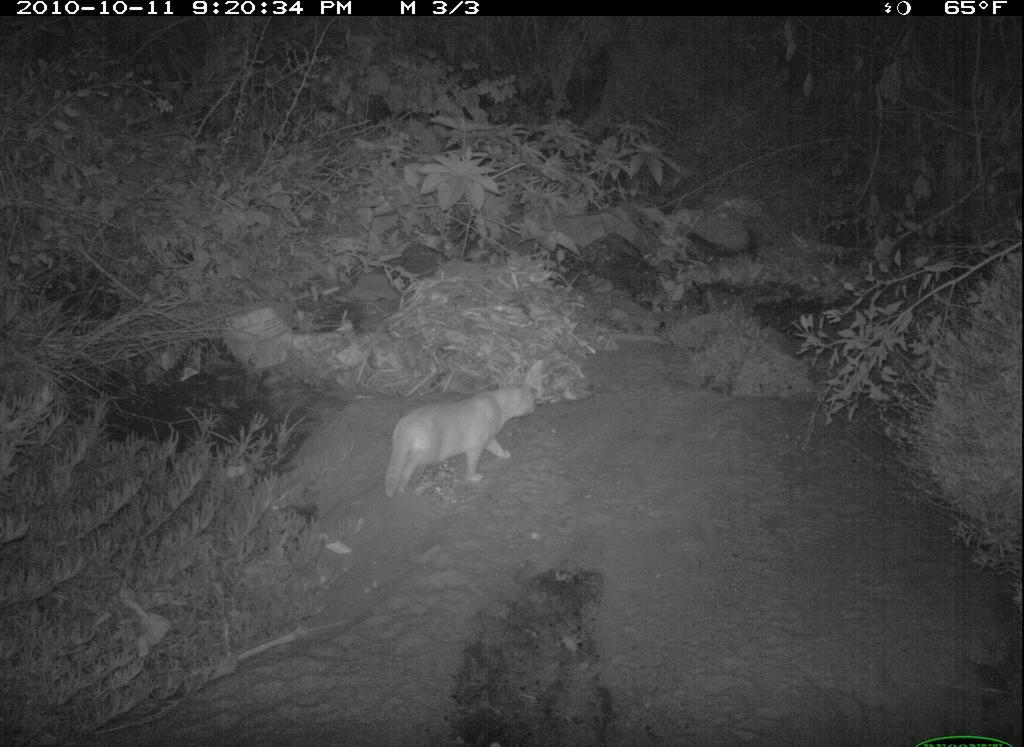cat: (381, 369, 541, 506)
